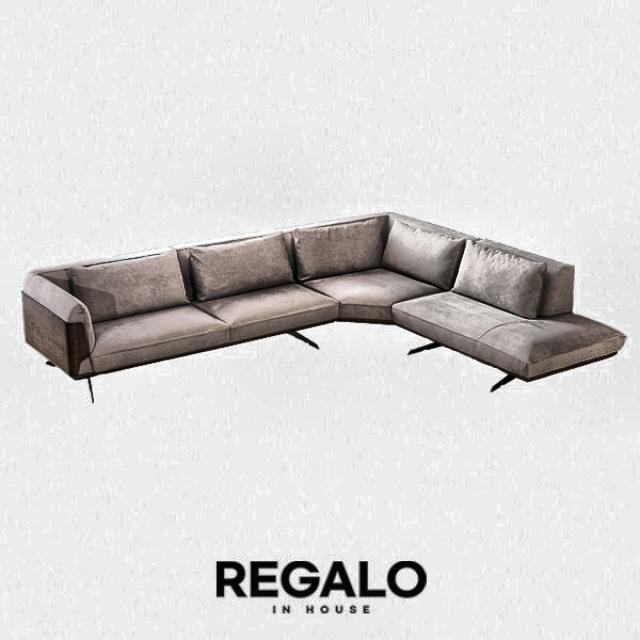sofa: (0, 194, 640, 411)
